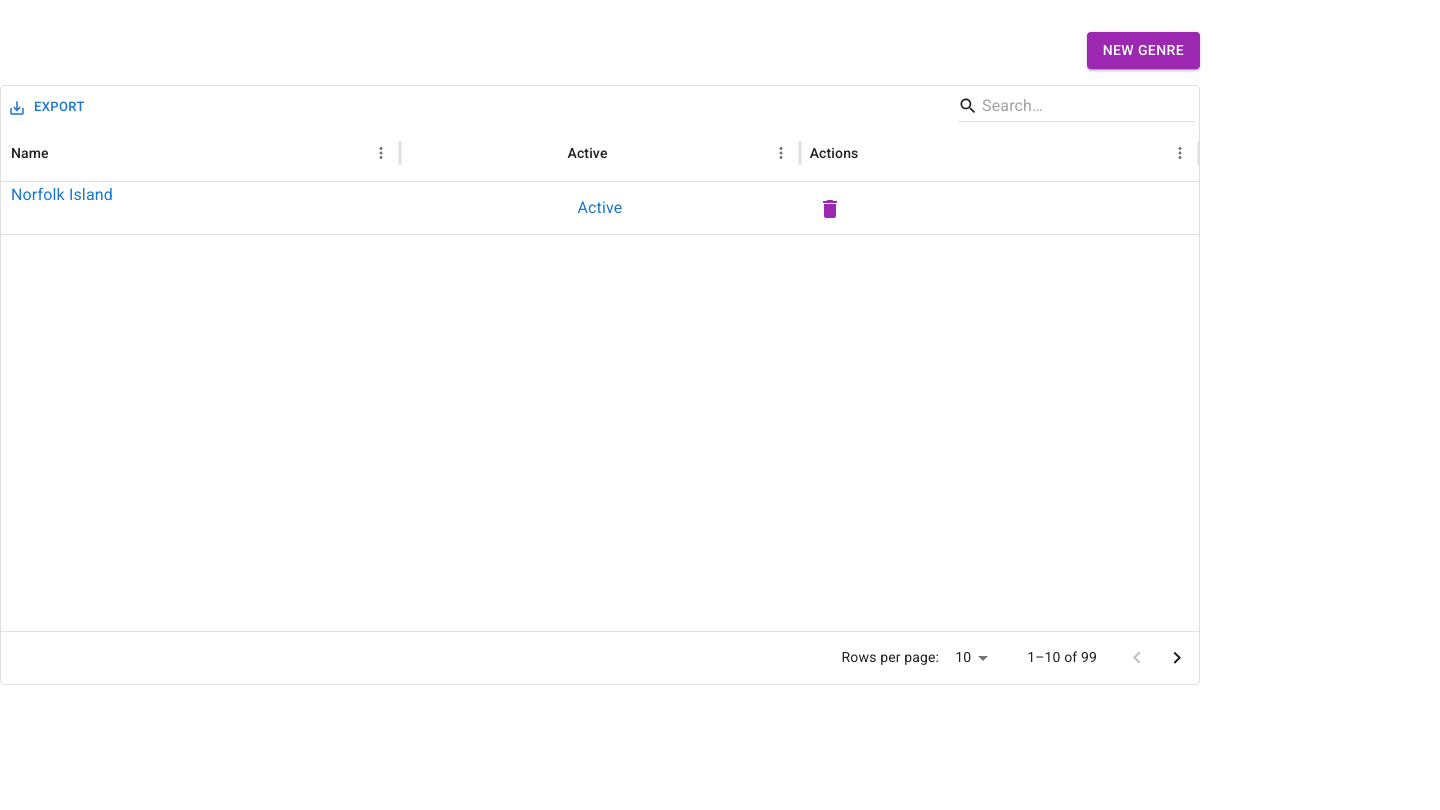
Test: GenreList › should handle Delete Genre error
Expected: the text "Norfolk Island" is shown, [11,184,113,204]
Step 1. Click the button with test id "DeleteIcon" → (830, 209), box [810,189,850,229]
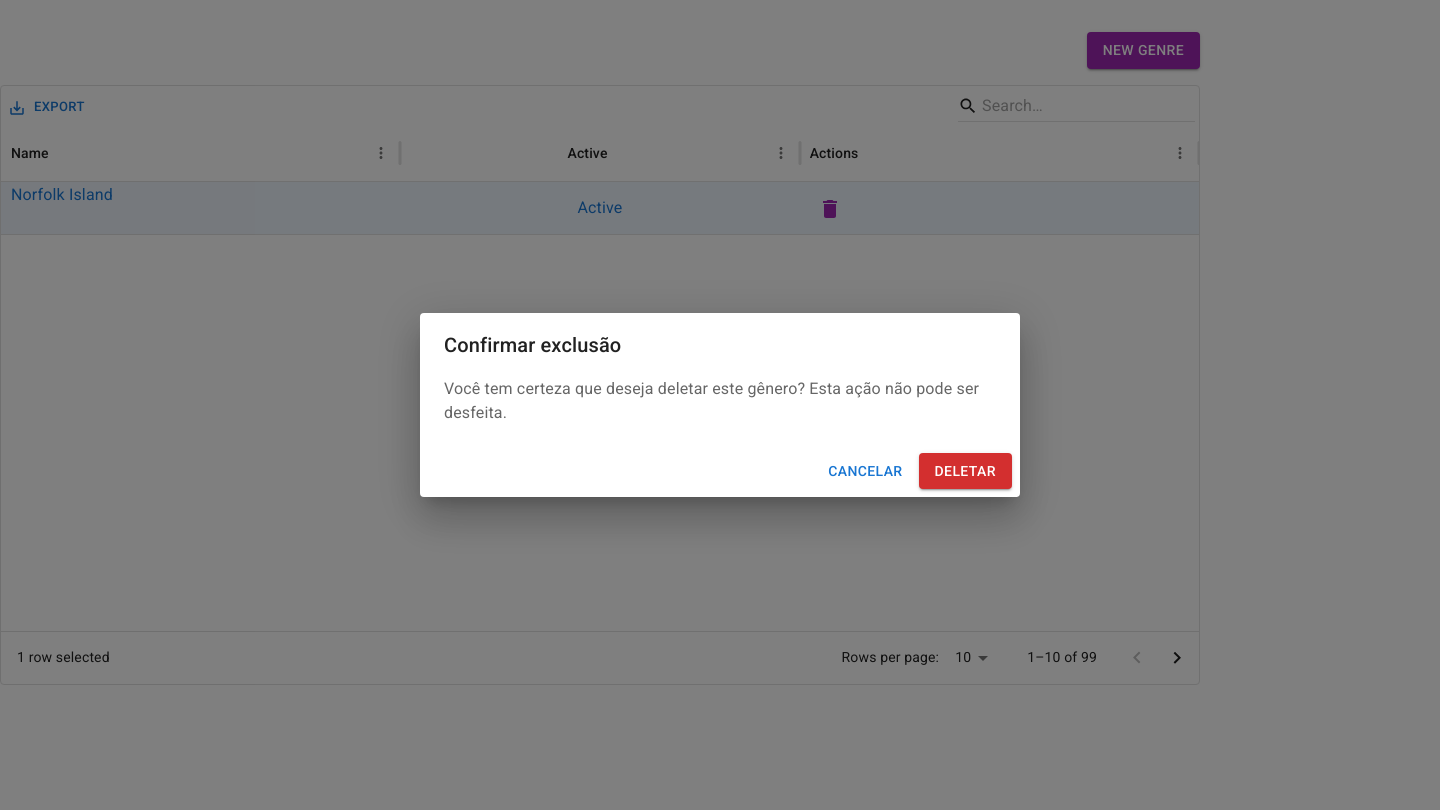
Step 2. Click the button "Deletar" → (965, 471), box [918,453,1012,489]
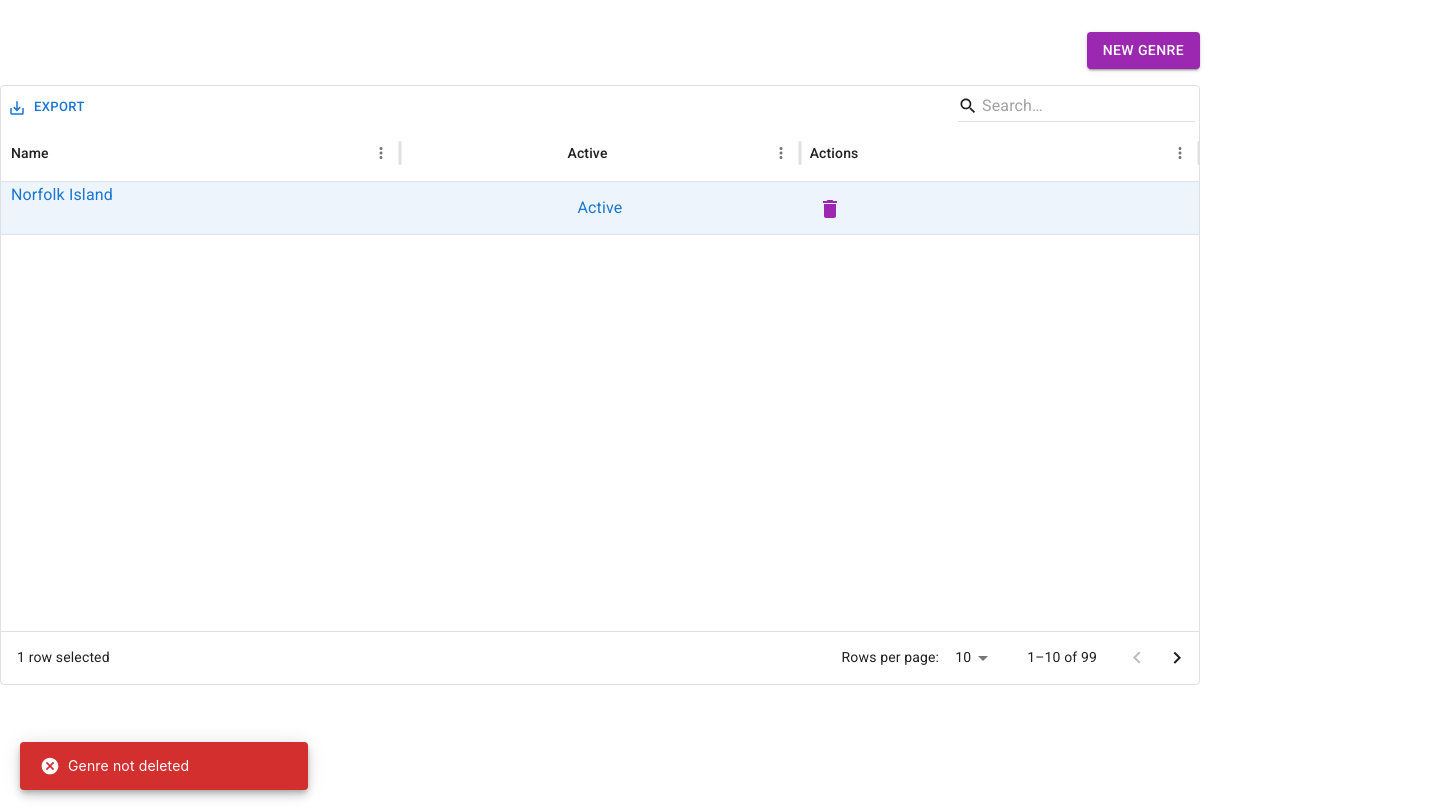
Result: the text "Genre not deleted" is shown at [40,756,189,776]
